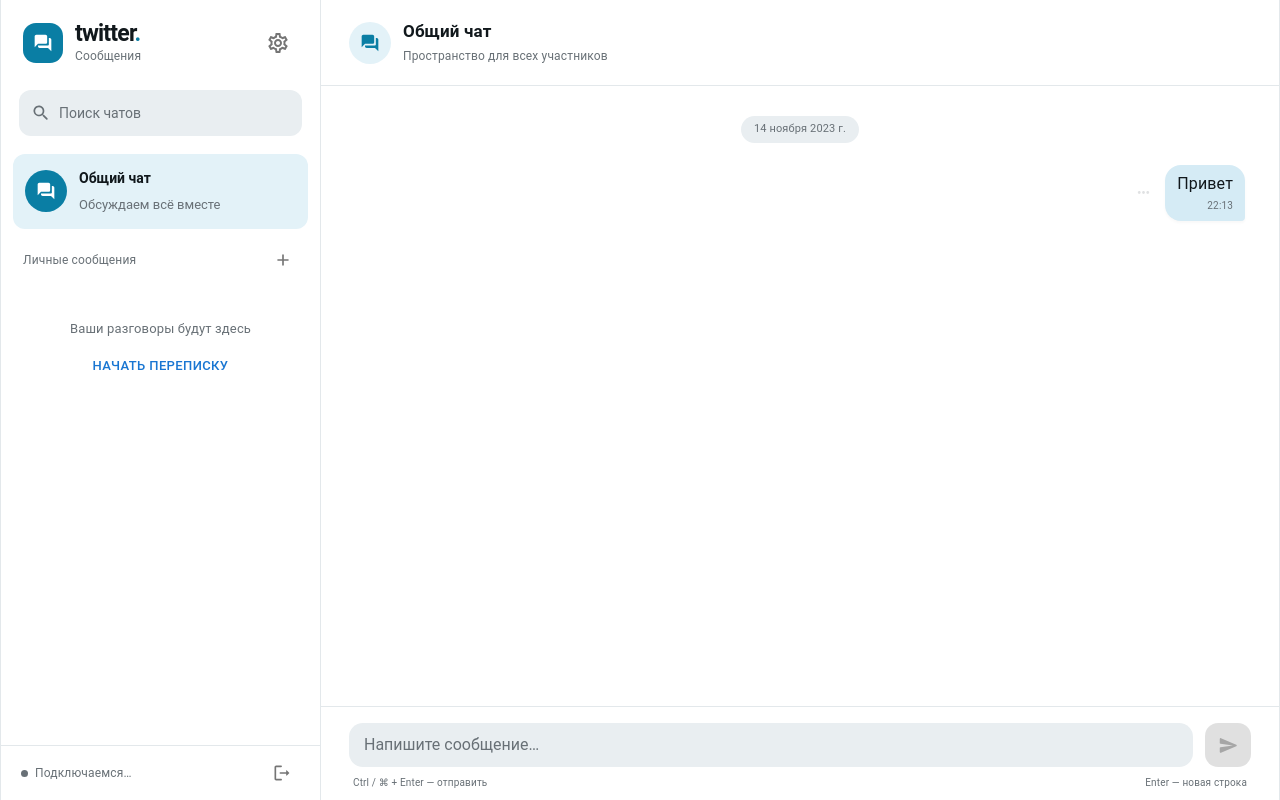
opens a private chat, sends to its recipient and preserves the general-chat draft
expect the text "Привет" is shown: met, box [1177, 172, 1233, 196]
Type "Черновик общего чата" into the text box labelled "сообщение". click: (771, 745)
box: [349, 723, 1193, 767]
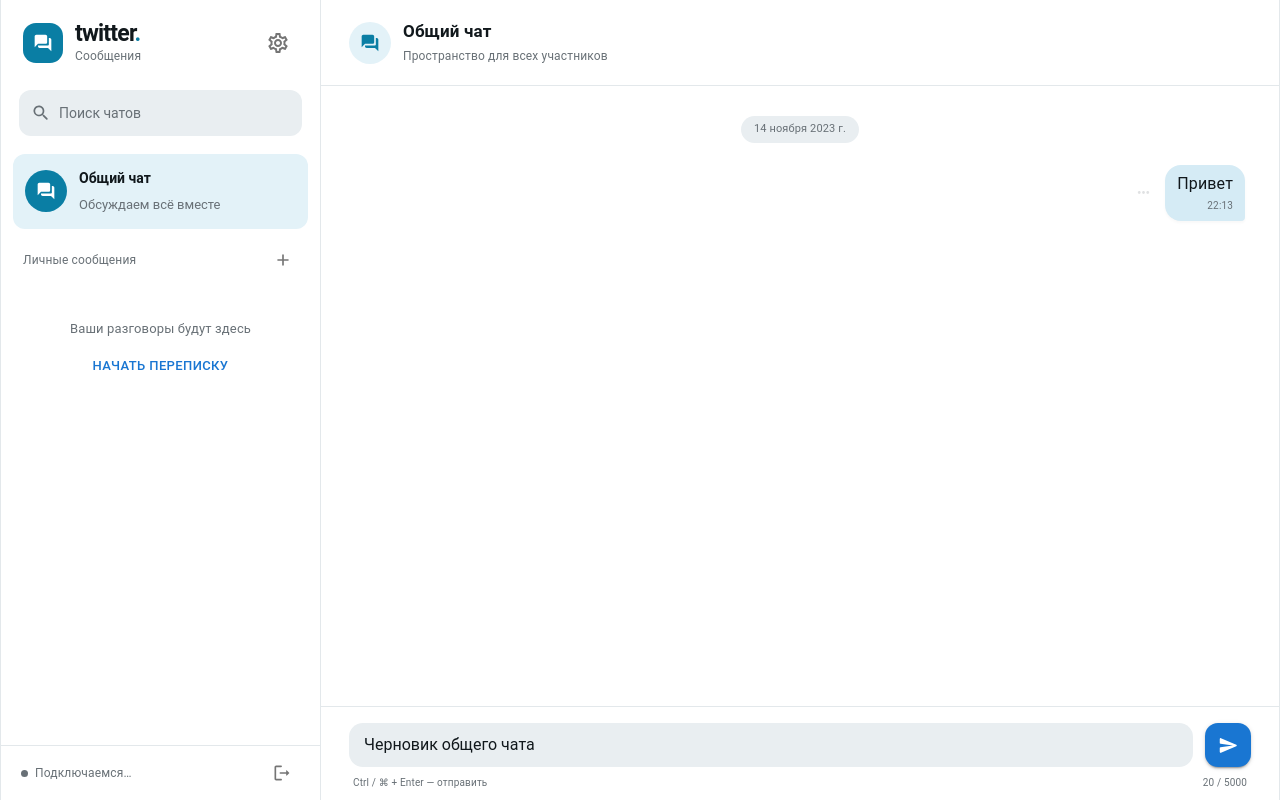
Click the button named "Новый чат". click: click(283, 260)
box: [268, 244, 298, 274]
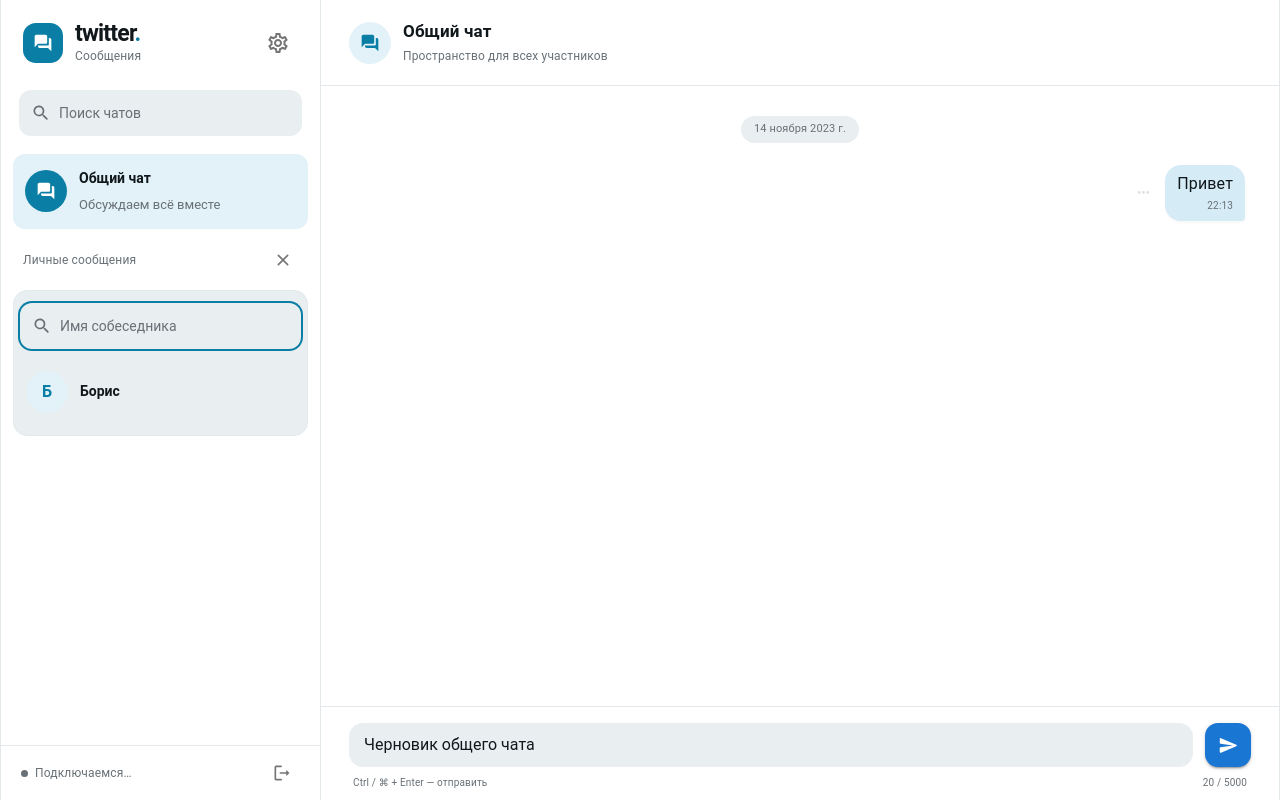
Click the button "Б Борис". click: click(47, 392)
box: [14, 356, 307, 426]
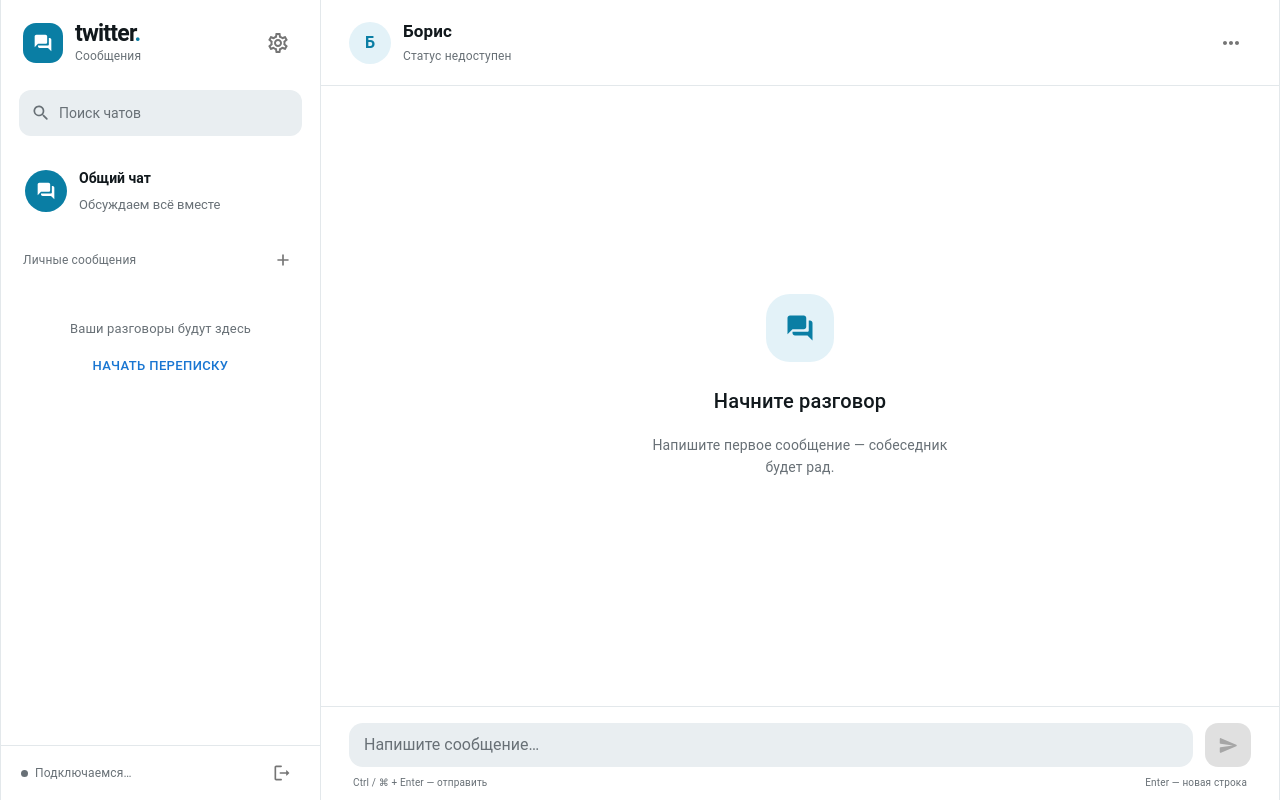
expect the heading "Борис" is shown: met, box [403, 21, 452, 41]
expect the text "Привет" is gone: met
Type "Только для Бориса" into the text box labelled "сообщение". click: (771, 745)
box: [349, 723, 1193, 767]
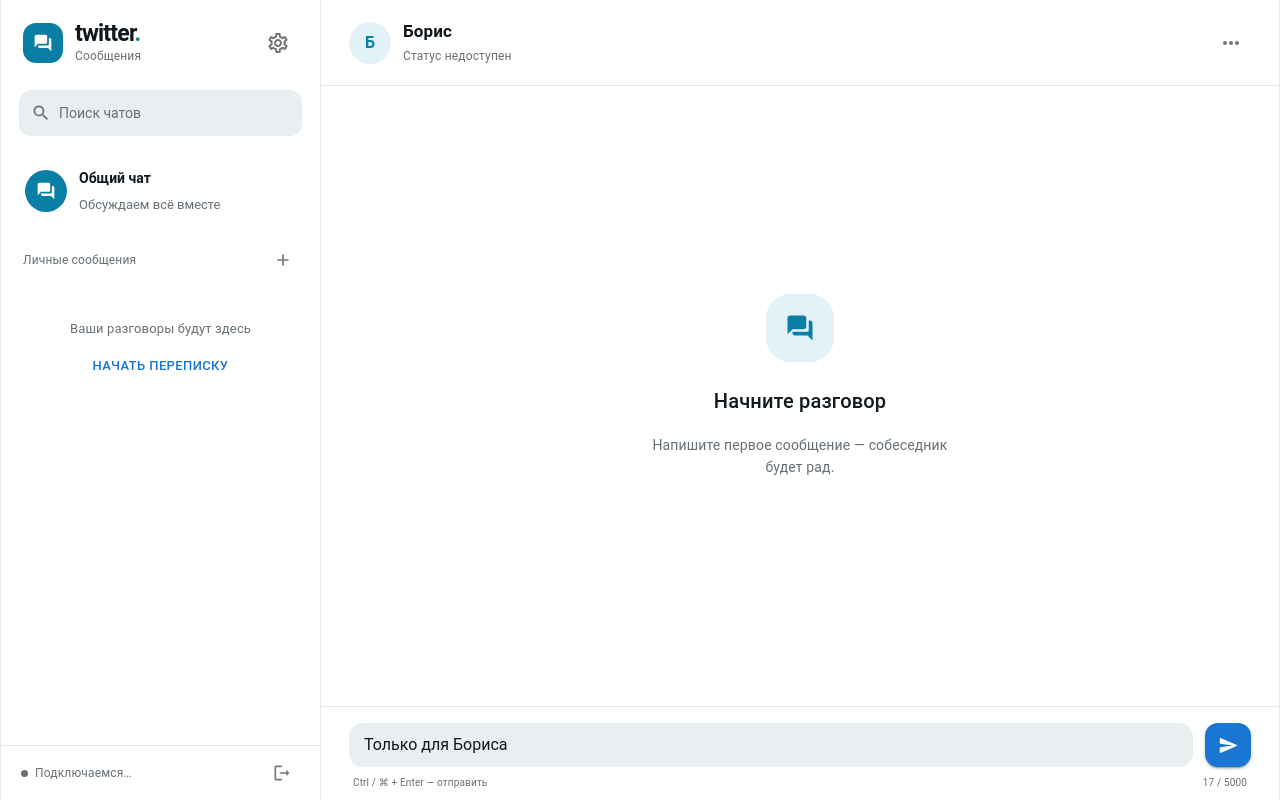
Click the button named "Отправить". click: click(1228, 745)
box: [1205, 723, 1251, 767]
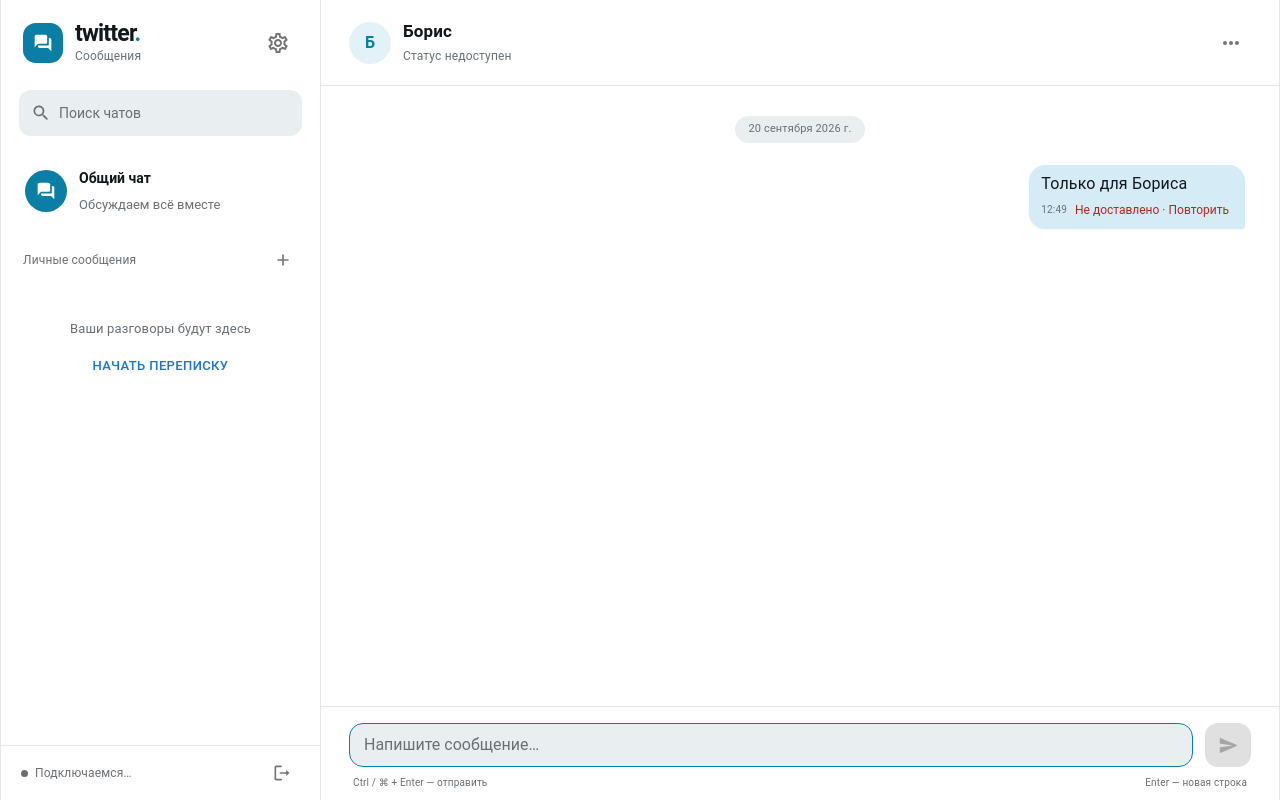
expect the text box labelled "сообщение" is empty: met, box [349, 723, 1193, 767]
Click the button "Общий чат Обсуждаем всё вместе". click: click(46, 191)
box: [13, 154, 308, 228]
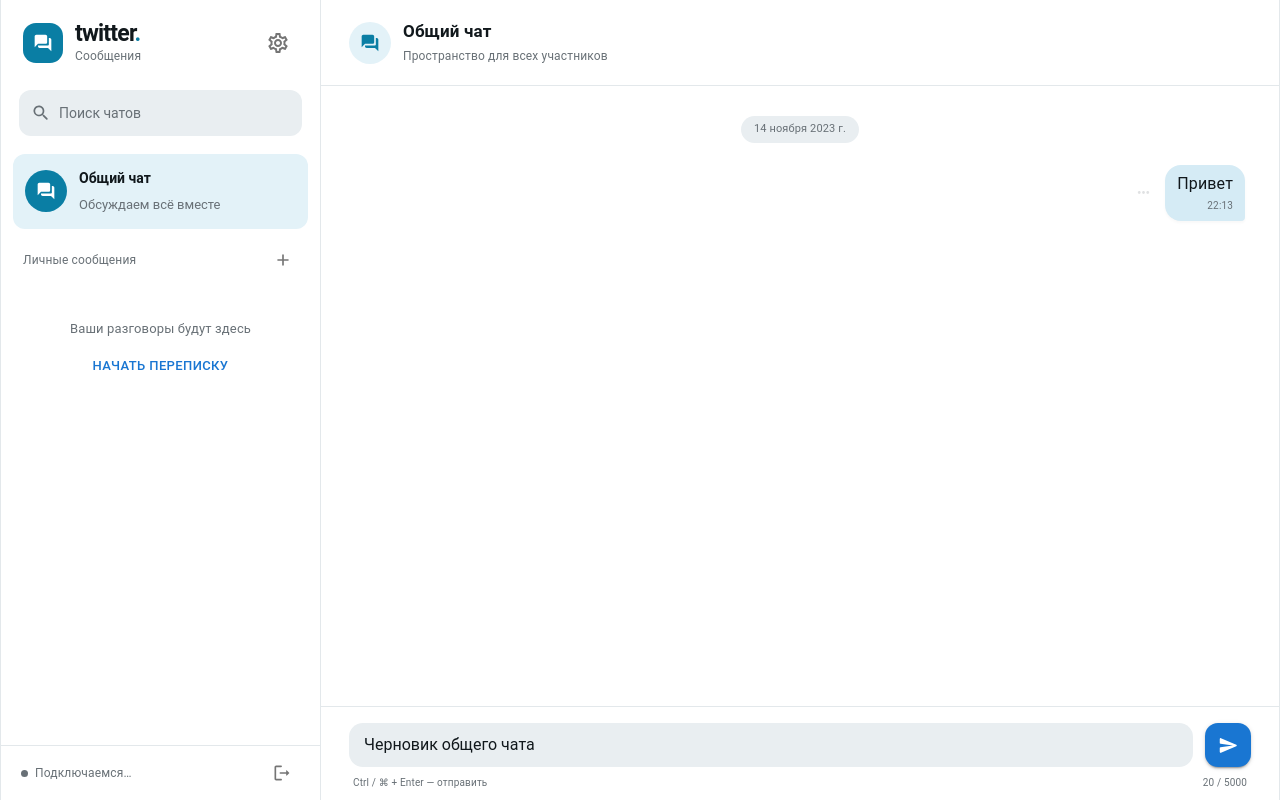
expect the text "Привет" is shown: met, box [1177, 172, 1233, 196]
expect the text box named "сообщение" holds "Черновик общего чата": met, box [349, 723, 1193, 767]
